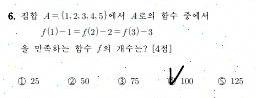choice: (165, 70, 178, 87)
not-choice: (116, 76, 127, 87), (16, 76, 27, 86), (66, 76, 77, 86), (217, 76, 227, 86)
